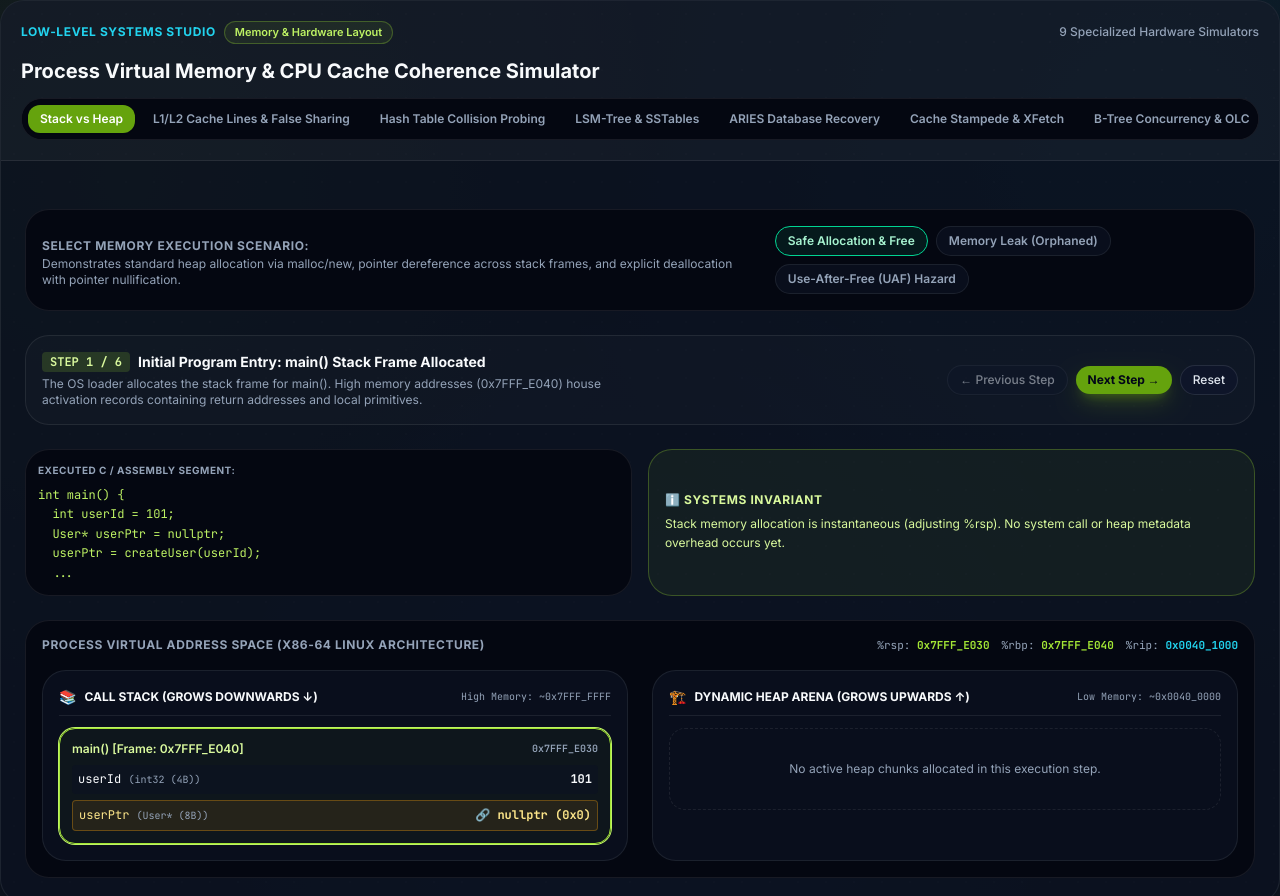
Test: MemoryCacheInspectorSandbox › renders Stack vs Heap simulator by default and steps through clean allocation lifecycle
Expected: the heading "Process Virtual Memory & CPU Cache Coherence Simulator" is shown, [21,58,600,82]
Expected: the button "Safe Allocation & Free" is shown, [775,226,928,256]
# Step forward to step 2 (createUser call)
Click the button "Next Step →" at (1124, 380), box [1076,366,1172,394]
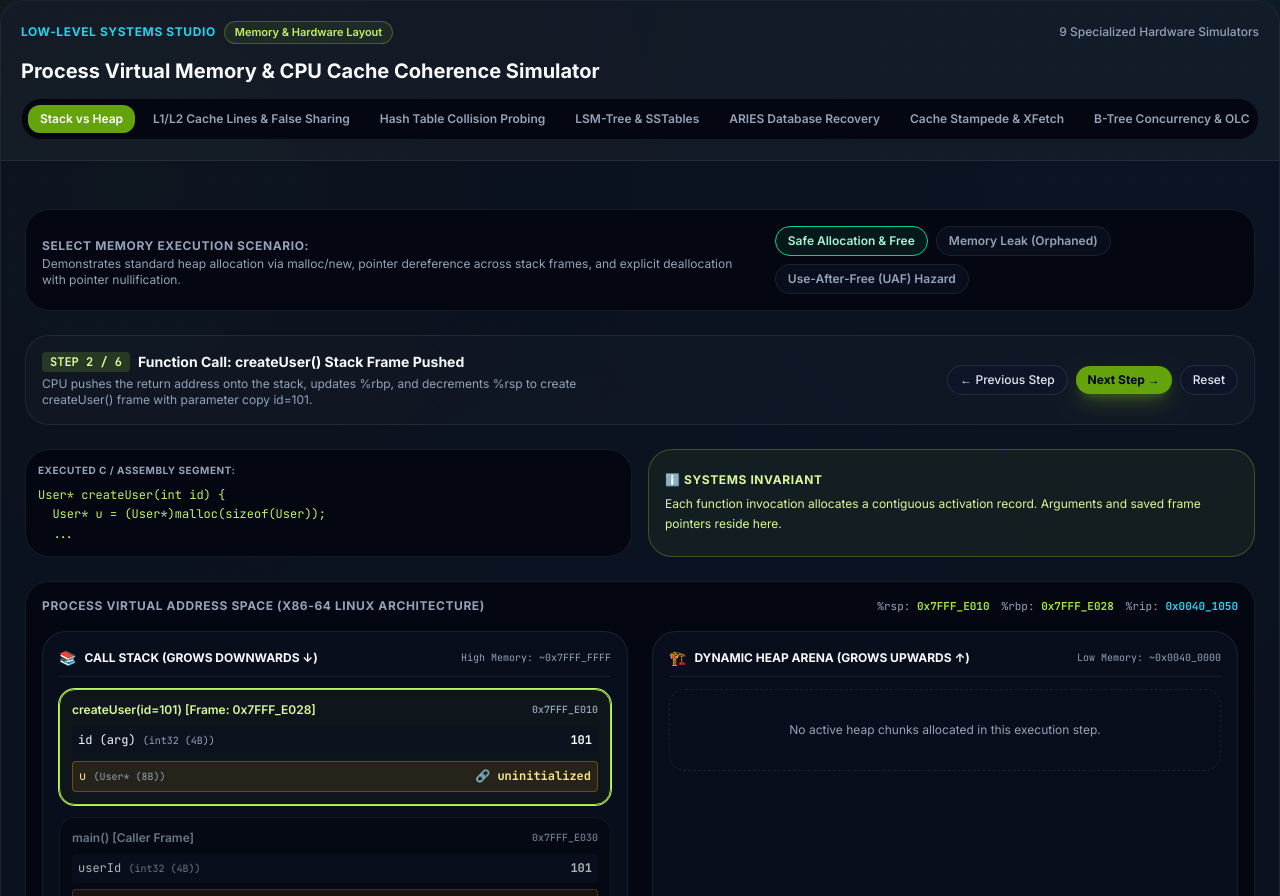
Result: the heading "Function Call: createUser() Stack Frame Pushed" is shown at [138,352,464,372]
Result: the text "STEP 2 / 6" is shown at [42,352,130,372]
# Step forward to step 3 (malloc heap allocation)
Click the button "Next Step →" at (1124, 380), box [1076,366,1172,394]
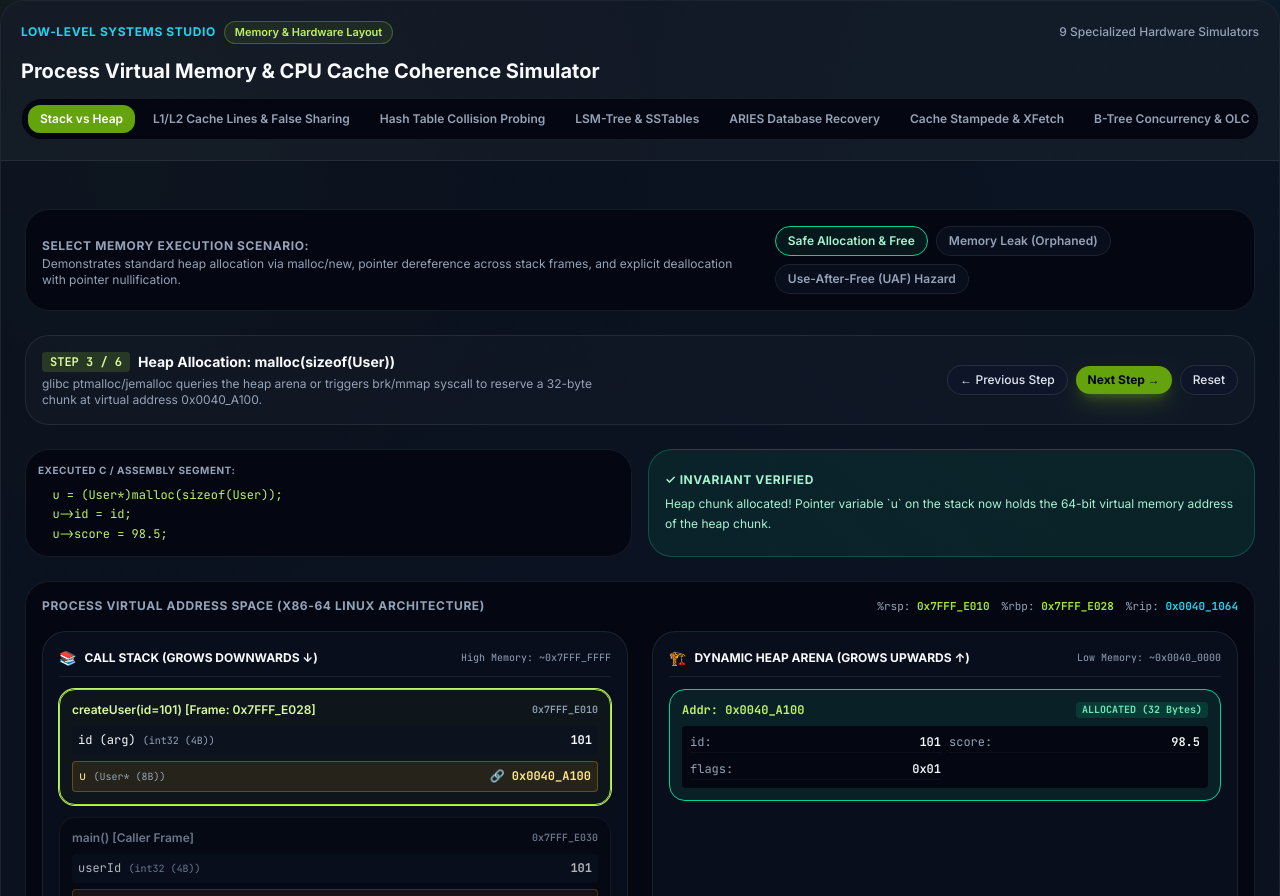
Result: the heading "Heap Allocation: malloc(sizeof(User))" is shown at [138,352,395,372]
Result: the text "ALLOCATED (32 Bytes)" is shown at [1076,702,1208,718]
# Reset back to step 1
Click the button "Reset" at (1209, 380), box [1180,364,1238,394]
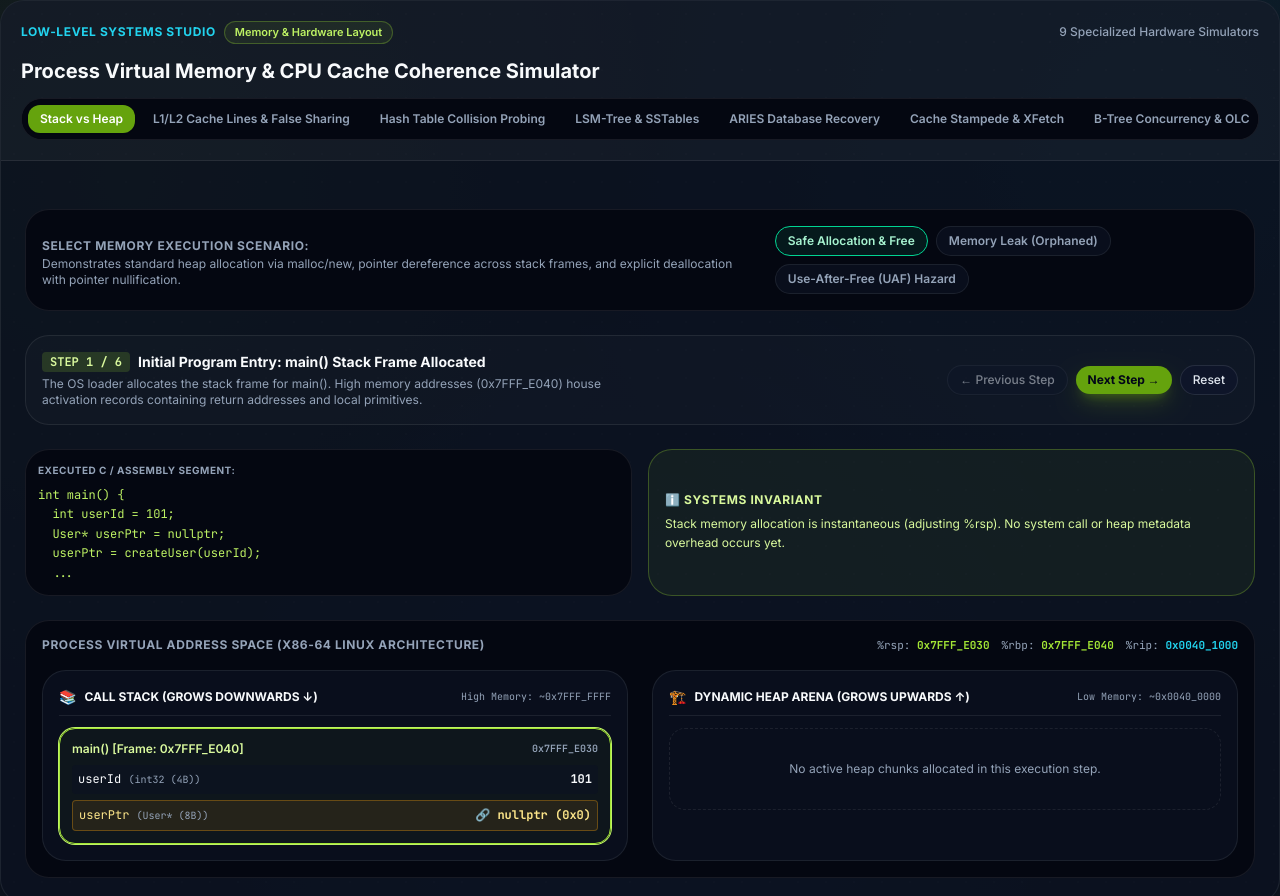
Result: the heading "Initial Program Entry: main() Stack Frame Allocated" is shown at [138,352,486,372]
